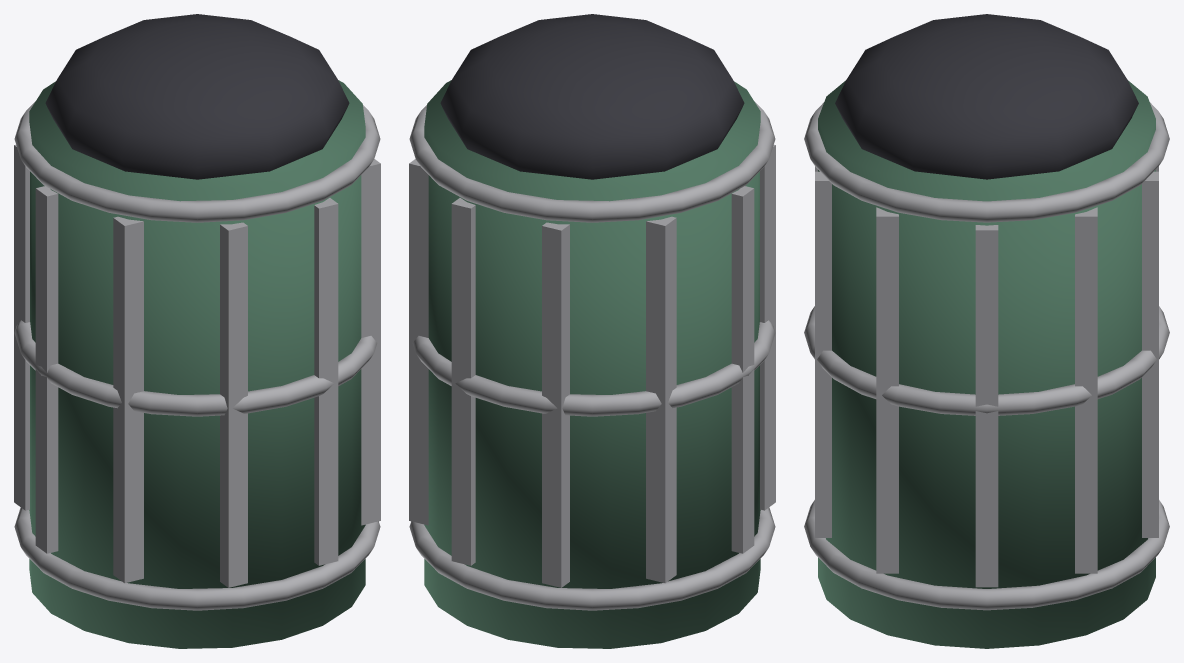
The model's file is bin.glb.
3 views of the same model, side by side, from view 1: azimuth 30°, elevation 25°; view 2: azimuth 150°, elevation 25°; view 3: azimuth 270°, elevation 25° (orthographic).
Parts seen in each view (by area): view 1: bin; view 2: bin; view 3: bin.
Boxes of the visible parts, bbox=[...] form: bin: bbox=[14, 14, 380, 648]; bin: bbox=[409, 14, 775, 648]; bin: bbox=[804, 14, 1169, 648].
Bounding box in the file's own units: 0.65 × 1.09 × 0.65.
